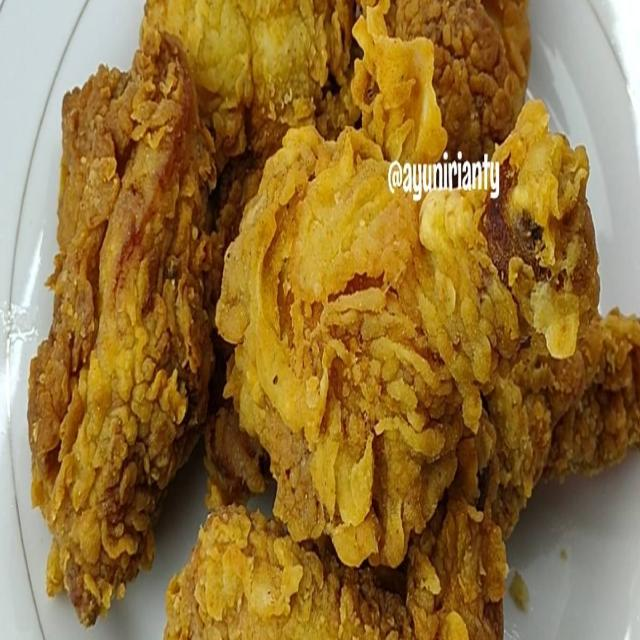Frango: (220, 122, 600, 561), (26, 27, 211, 628), (170, 508, 506, 640)
